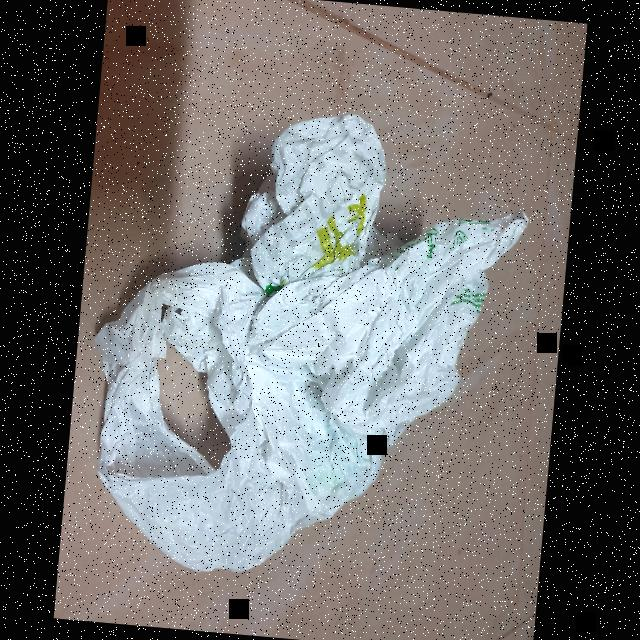plastic_bag: (70, 81, 546, 608)
